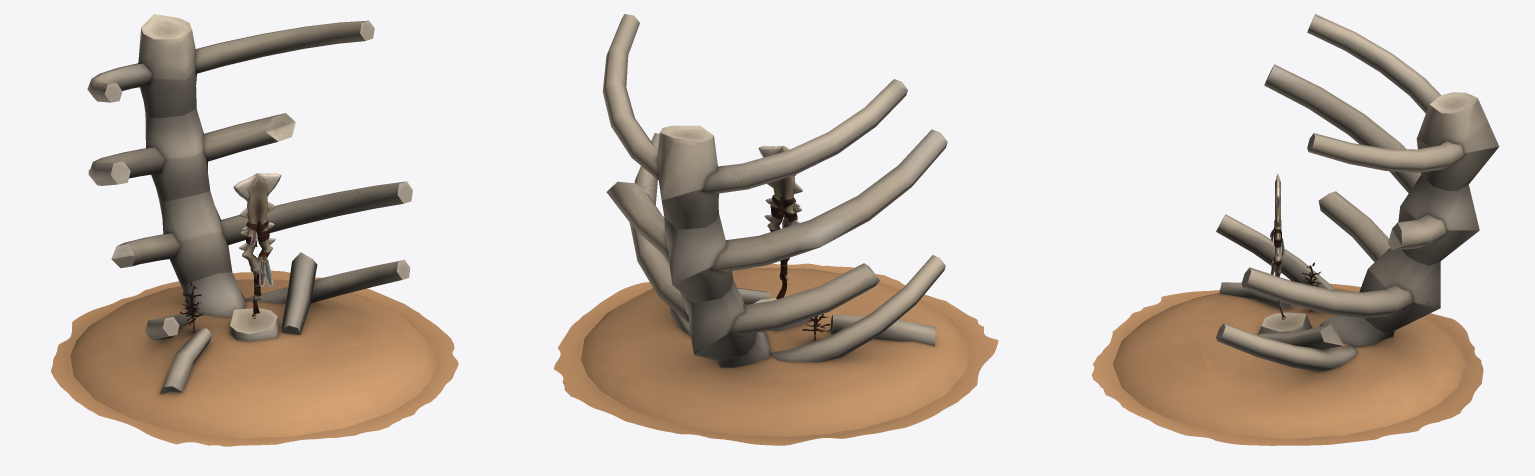
Rendered from bonemarrow.fbx.
The picture shows the model from 3 angles, left to right: view 1: azimuth 30°, elevation 25°; view 2: azimuth 150°, elevation 25°; view 3: azimuth 270°, elevation 25°; orthographic projection. The views are drawn at different scales.
Visible parts, largest first — view 1: Scene, SwordV2; view 2: Scene, SwordV2; view 3: Scene, SwordV2.
Part boxes in pixels (x1,y1,x2,y2): Scene: (51,14,458,446); SwordV2: (233,173,281,318); Scene: (554,14,998,445); SwordV2: (758,145,802,299); Scene: (1091,14,1499,445); SwordV2: (1270,174,1285,319).
Bounding box in the file's own units: 825 × 825 × 567.
2 materials, 2 textured.
